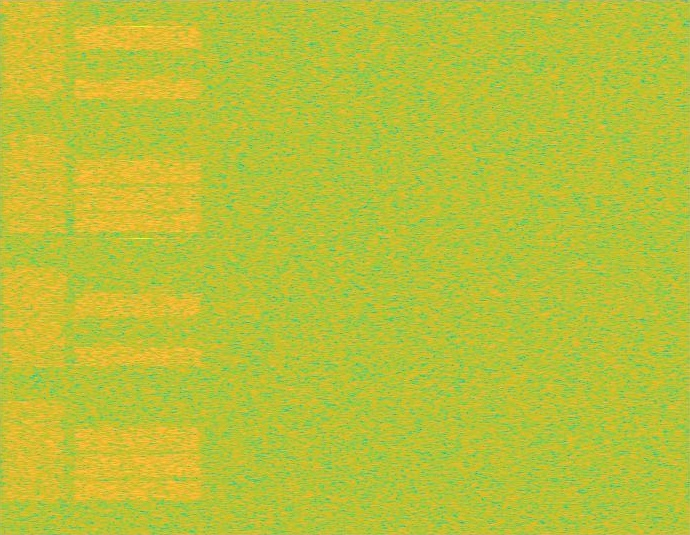5G: (0, 0, 69, 534)
LTE: (69, 0, 207, 534)
Radar: (134, 0, 148, 534)
